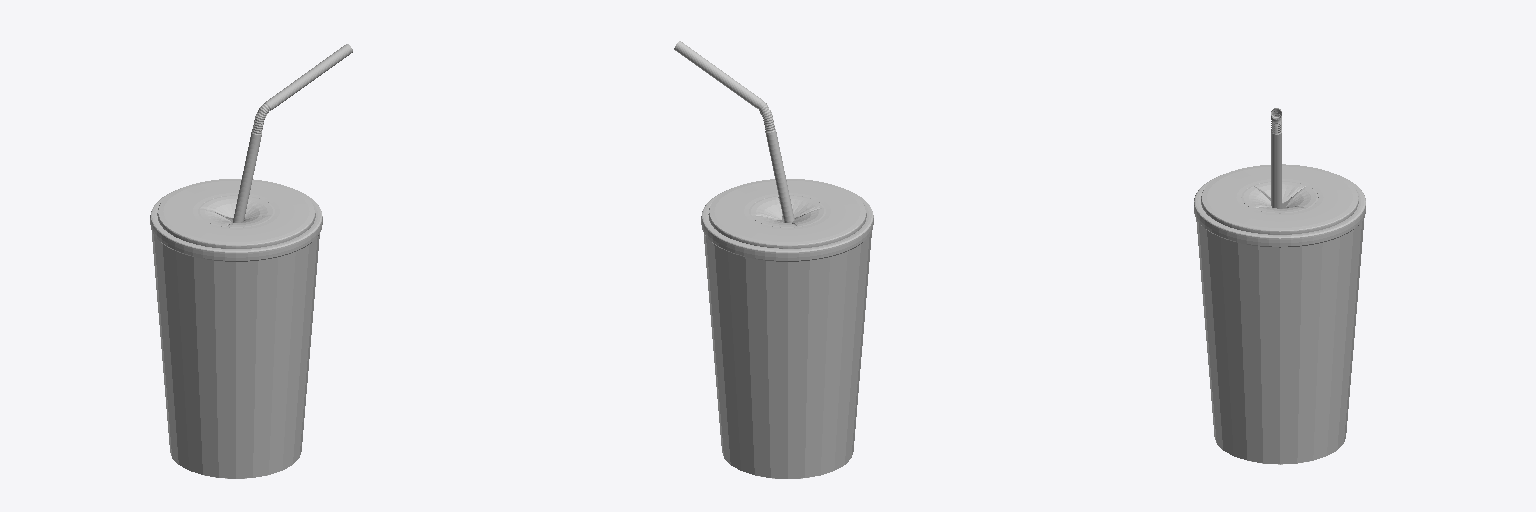
Rendered from cola_cup.obj.
The picture shows the model from 3 angles: view 1: azimuth 30°, elevation 25°; view 2: azimuth 150°, elevation 25°; view 3: azimuth 270°, elevation 25°; orthographic projection.
Parts seen in each view (by area): view 1: Cylinder01, Cylinder02, Cylinder03; view 2: Cylinder01, Cylinder02, Cylinder03; view 3: Cylinder01, Cylinder02, Cylinder03.
Boxes of the visible parts, <box> form: Cylinder01: <box>152,217,319,478</box>; Cylinder02: <box>150,179,322,261</box>; Cylinder03: <box>233,44,352,222</box>; Cylinder01: <box>704,200,871,478</box>; Cylinder02: <box>701,179,873,261</box>; Cylinder03: <box>674,41,795,225</box>; Cylinder01: <box>1196,189,1364,464</box>; Cylinder02: <box>1194,164,1365,247</box>; Cylinder03: <box>1271,108,1281,208</box>.
Size of the model in its own units: 85.23 by 165 by 67.57.